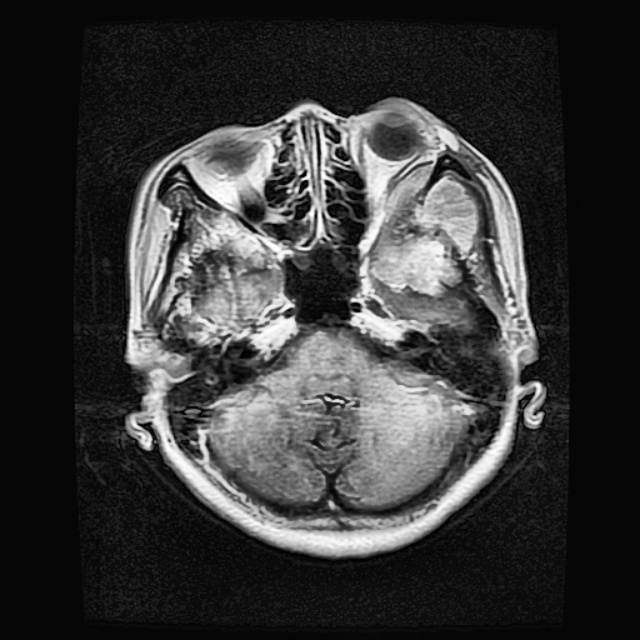Pituitary: (372, 164, 479, 295)
